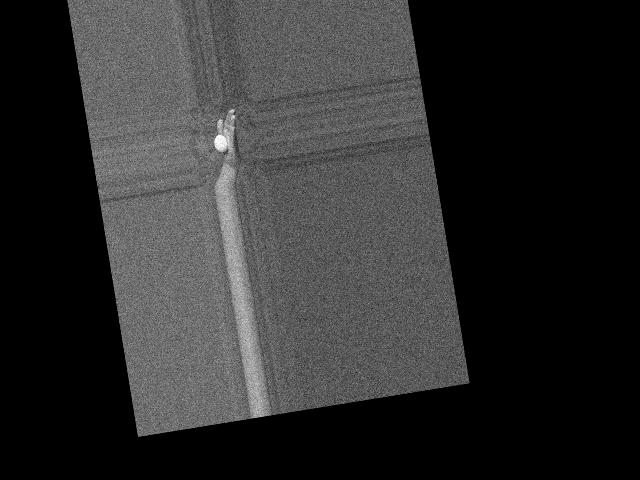egg: (213, 134, 229, 153)
